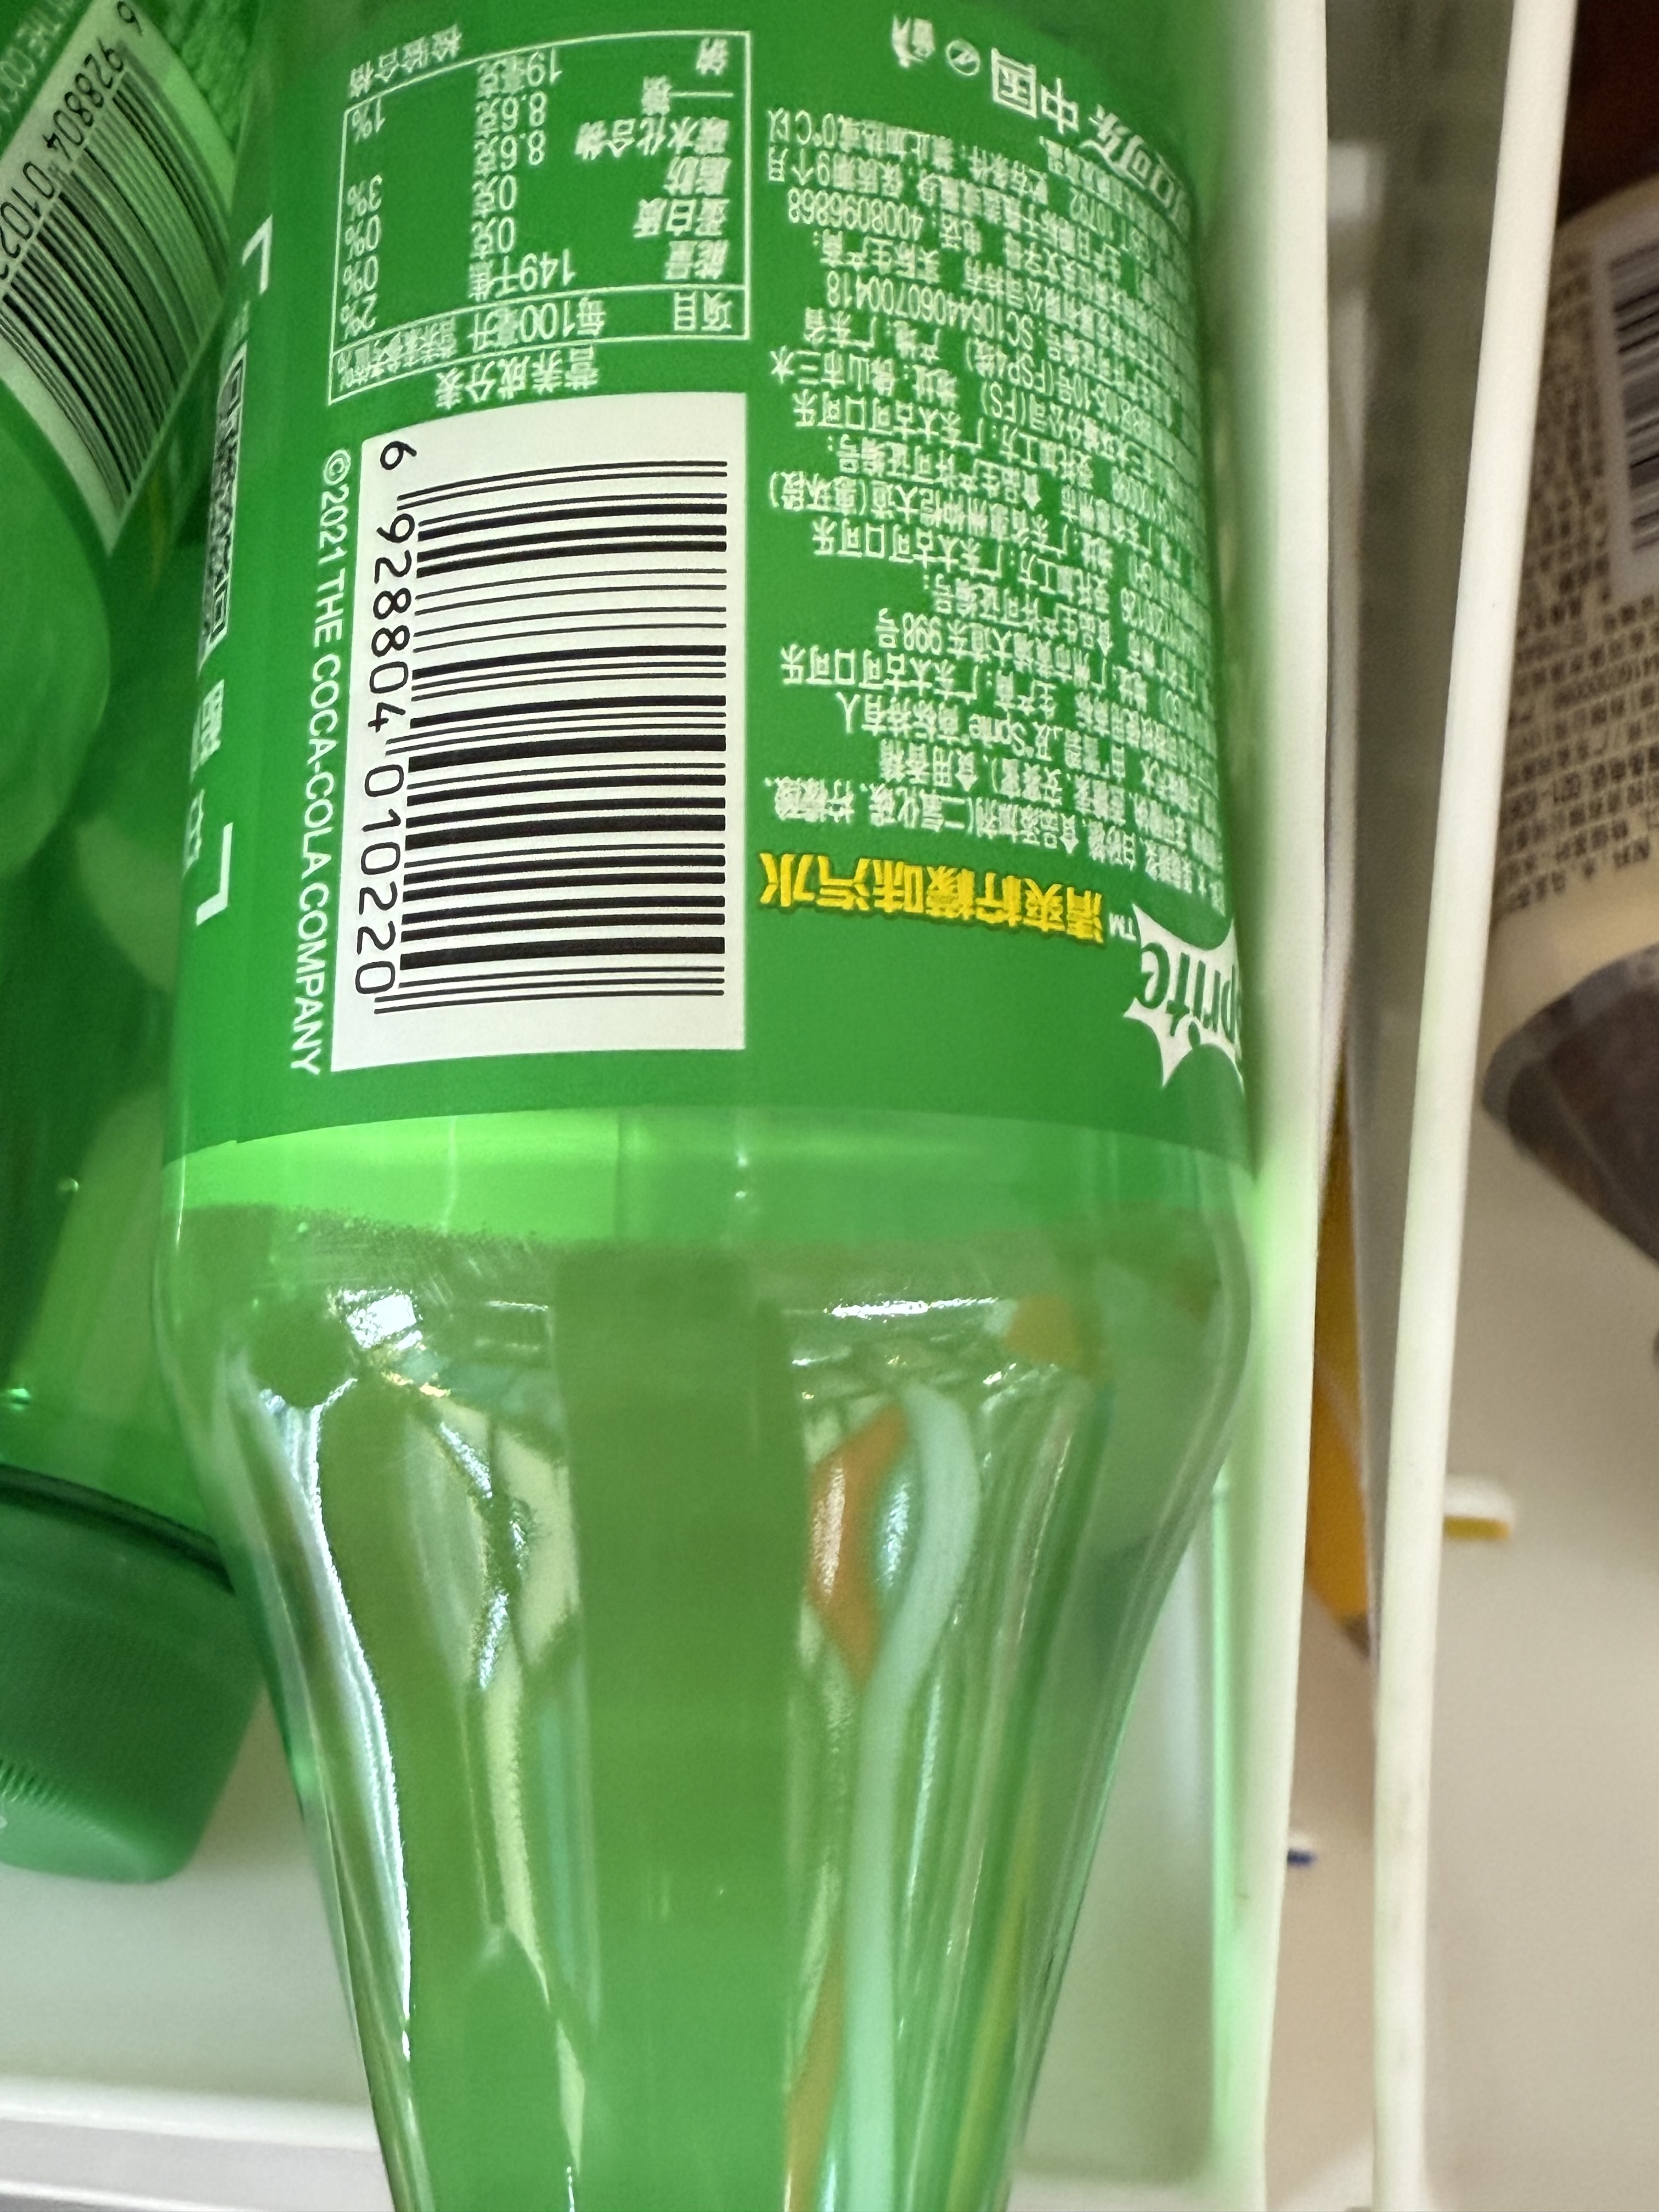bar: (368, 449, 734, 1014), (0, 35, 247, 536)
